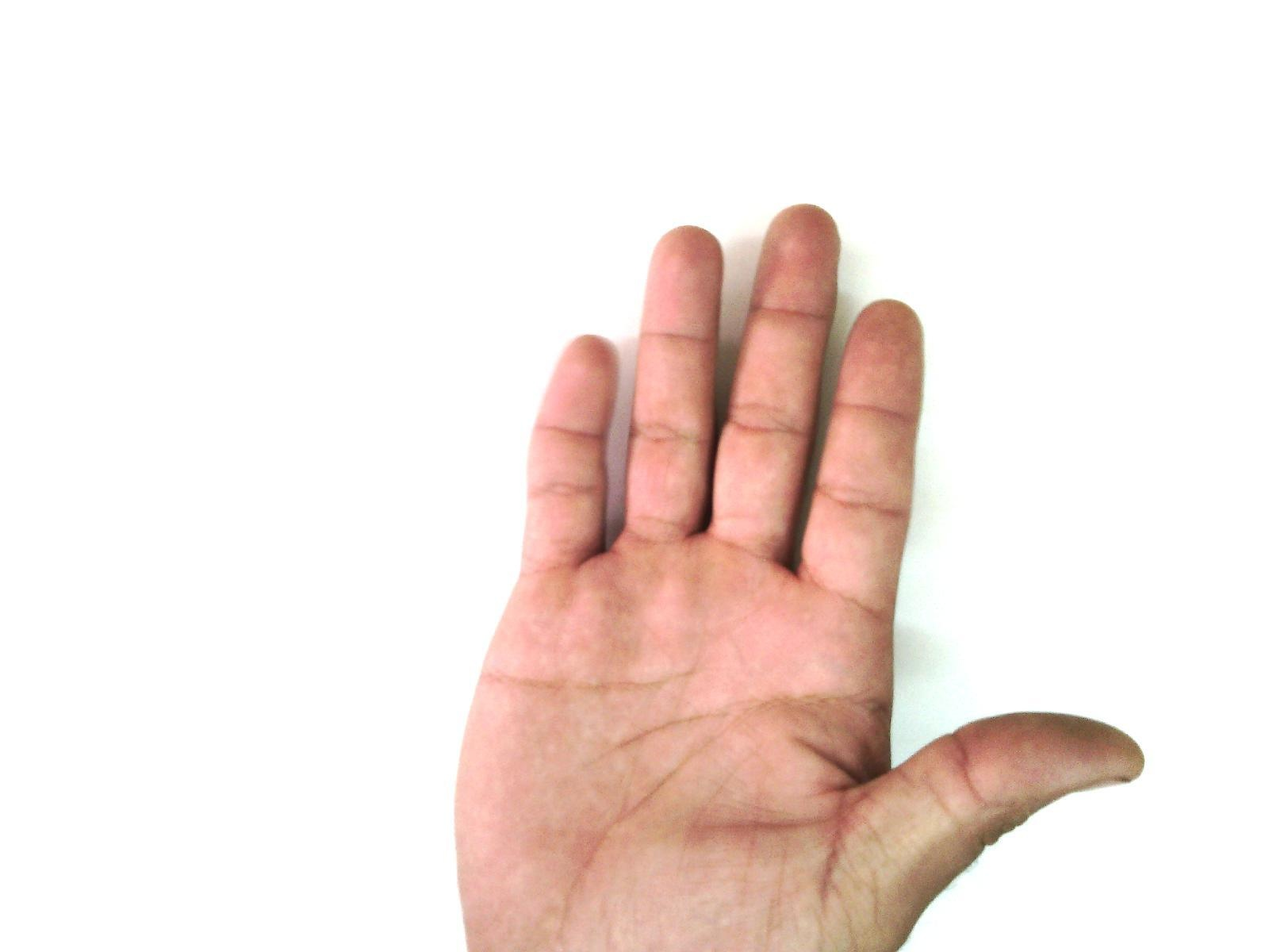open_palm: (450, 203, 1147, 951)
